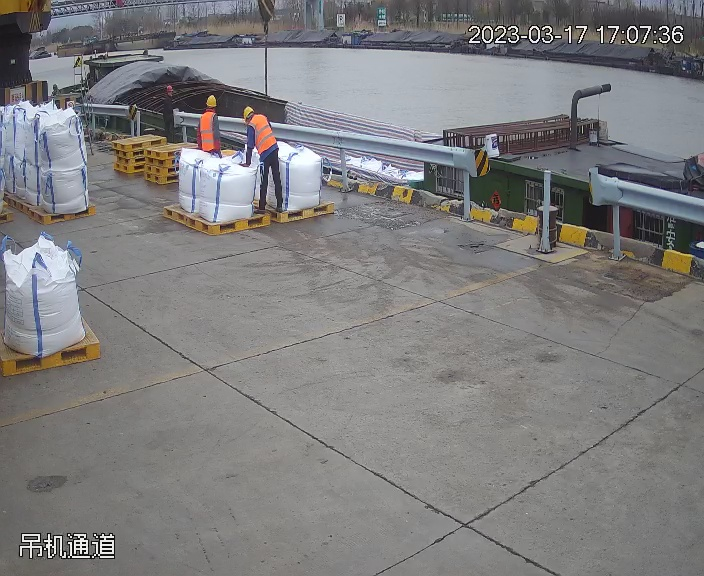head: (241, 106, 276, 142), (197, 95, 221, 125), (162, 85, 175, 105)
helmet: (242, 105, 256, 121), (205, 94, 219, 107), (165, 85, 174, 93)
people: (238, 106, 286, 214), (194, 93, 225, 156), (161, 84, 178, 139)
truck: (1, 66, 103, 381)
